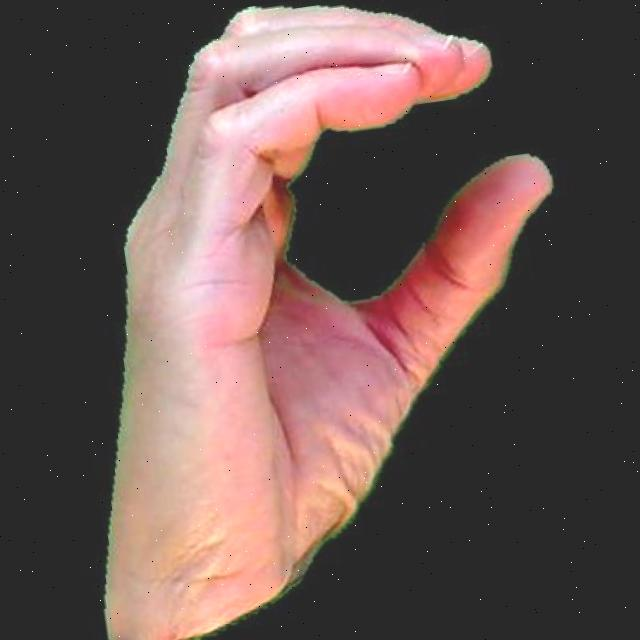c: (6, 0, 628, 640)
